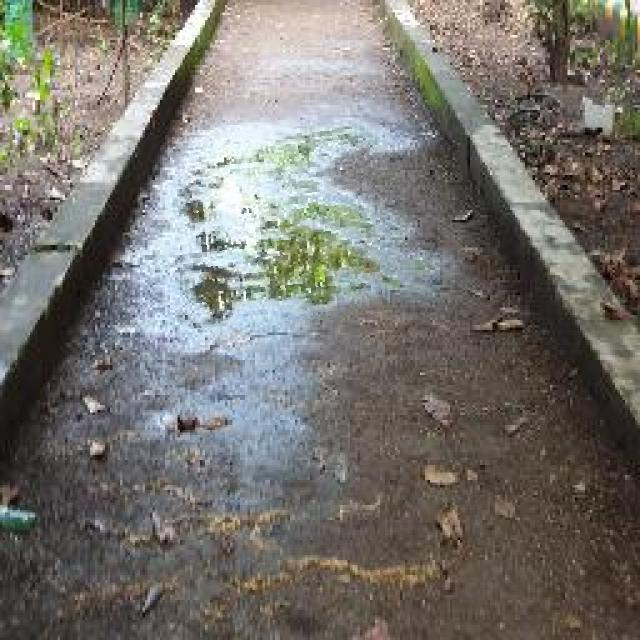puddle: (177, 125, 381, 326)
